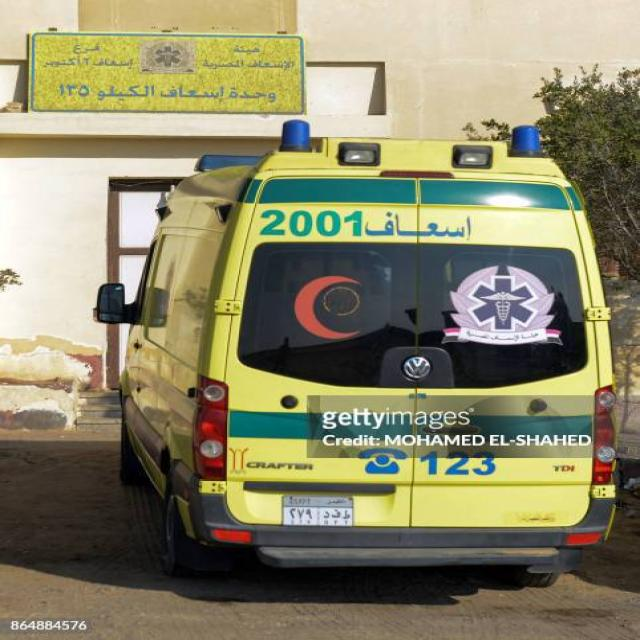Ambulance: (93, 118, 621, 587)
